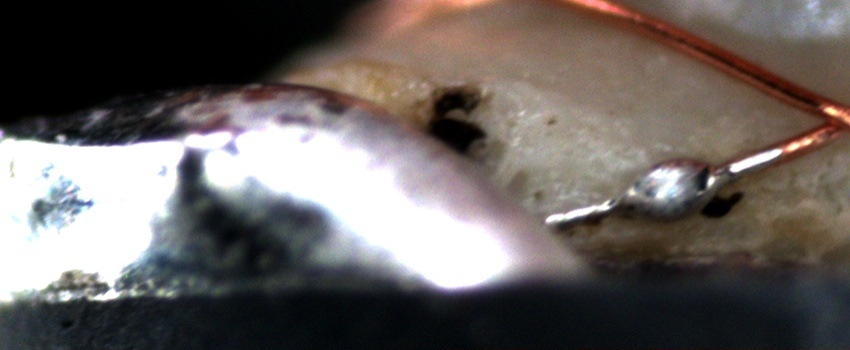CL: (793, 87, 850, 147)
TB: (623, 147, 731, 222)
TS: (542, 145, 780, 227)
TTCW: (542, 120, 836, 232)
